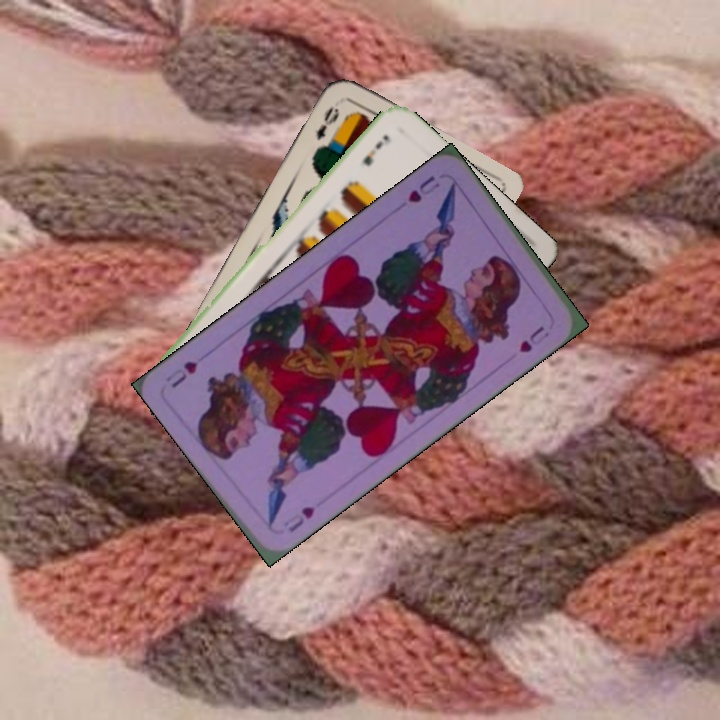E7: (358, 130, 394, 169)
EO: (312, 101, 342, 143)
HU: (404, 171, 443, 206), (279, 502, 318, 535)
